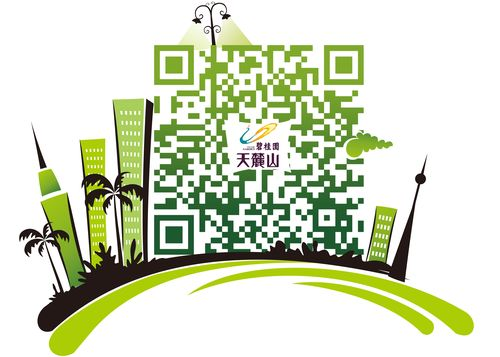QRCode: (149, 41, 364, 262)
